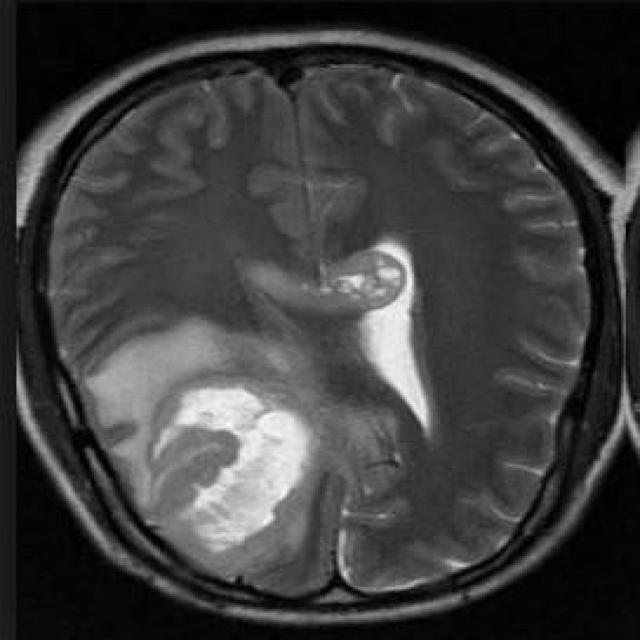brain tumor: (66, 313, 346, 585)
